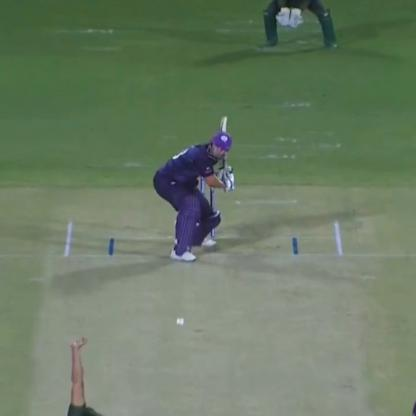ball: (172, 314, 189, 329)
bat: (213, 108, 239, 186)
pitch: (31, 215, 379, 415)
